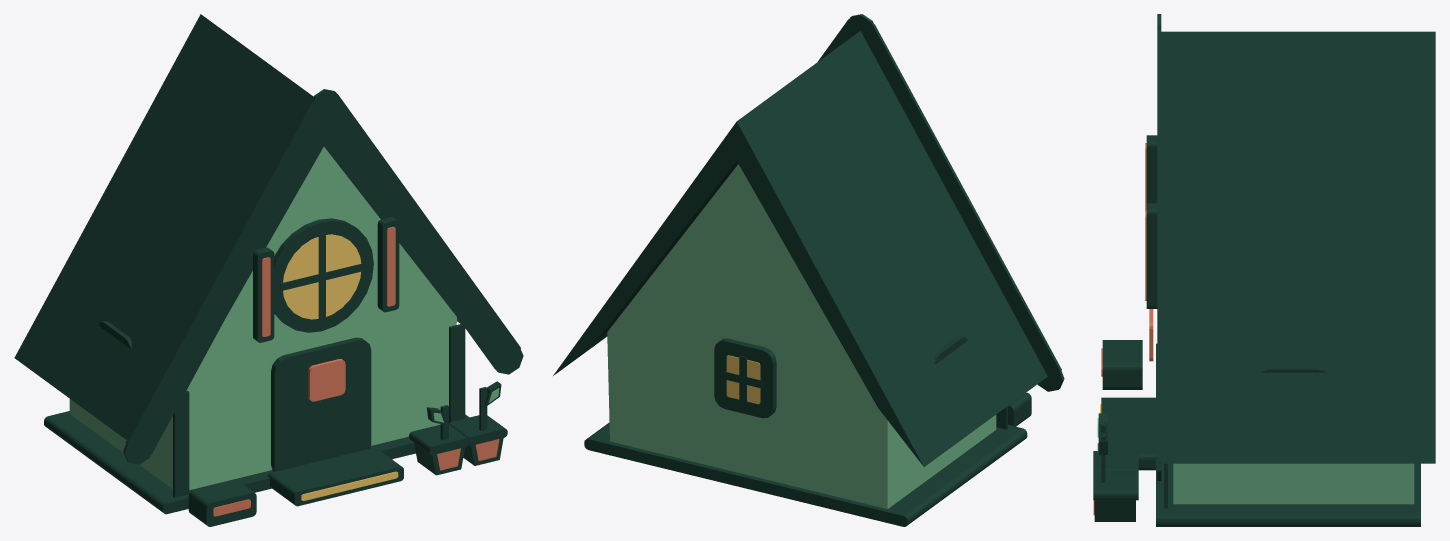
3 renders of one model, left to right at view 1: azimuth 30°, elevation 25°; view 2: azimuth 150°, elevation 25°; view 3: azimuth 270°, elevation 25°, orthographic. The views are drawn at different scales.
Parts seen in each view (by area): view 1: Rent Free house; view 2: Rent Free house; view 3: Rent Free house.
Boxes of the visible parts, x1,y1,x2,y2 form: Rent Free house: [14, 14, 523, 526]; Rent Free house: [553, 14, 1064, 526]; Rent Free house: [1093, 14, 1435, 526].
Size of the model in its own units: 1.09 by 1.01 by 0.7314.
